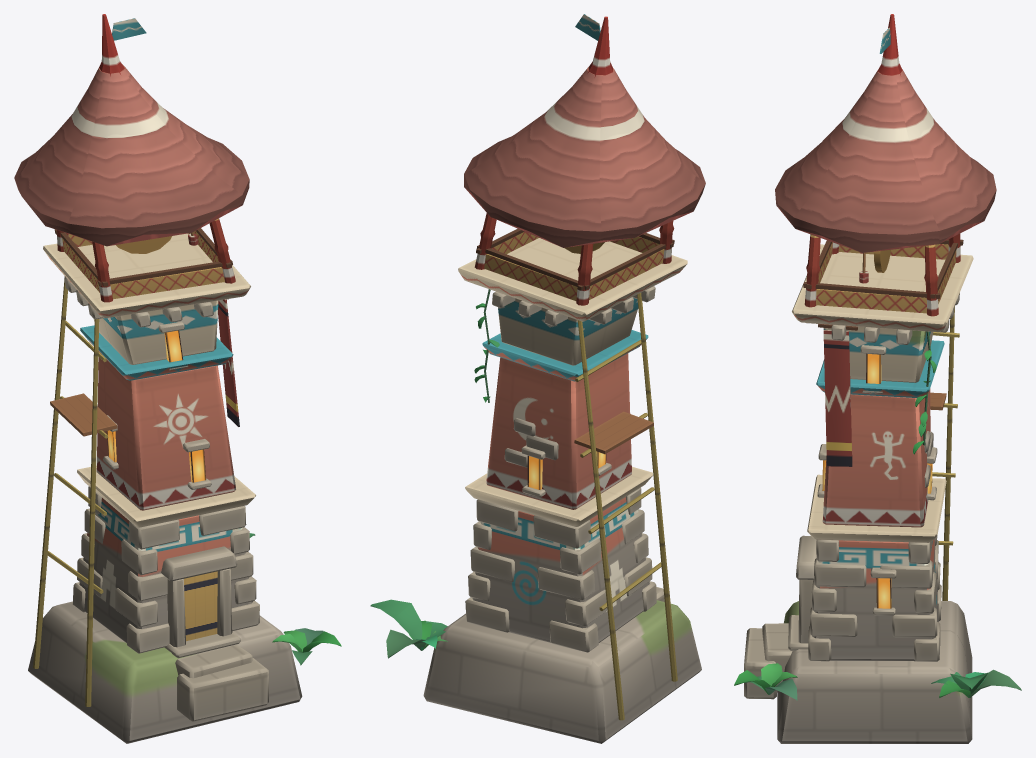
The model's file is house_gong.glb.
The picture shows the model from 3 angles, left to right: view 1: azimuth 30°, elevation 25°; view 2: azimuth 150°, elevation 25°; view 3: azimuth 270°, elevation 25°; orthographic projection. The views are drawn at different scales.
Parts seen in each view (by area): view 1: house_gong; view 2: house_gong; view 3: house_gong.
Boxes of the visible parts, x1,y1,x2,y2 form: house_gong: (14, 14, 341, 743); house_gong: (370, 14, 705, 743); house_gong: (734, 14, 1021, 743).
Bounding box in the file's own units: 8.32 × 20.1 × 7.91.
2 materials, 2 textured.
